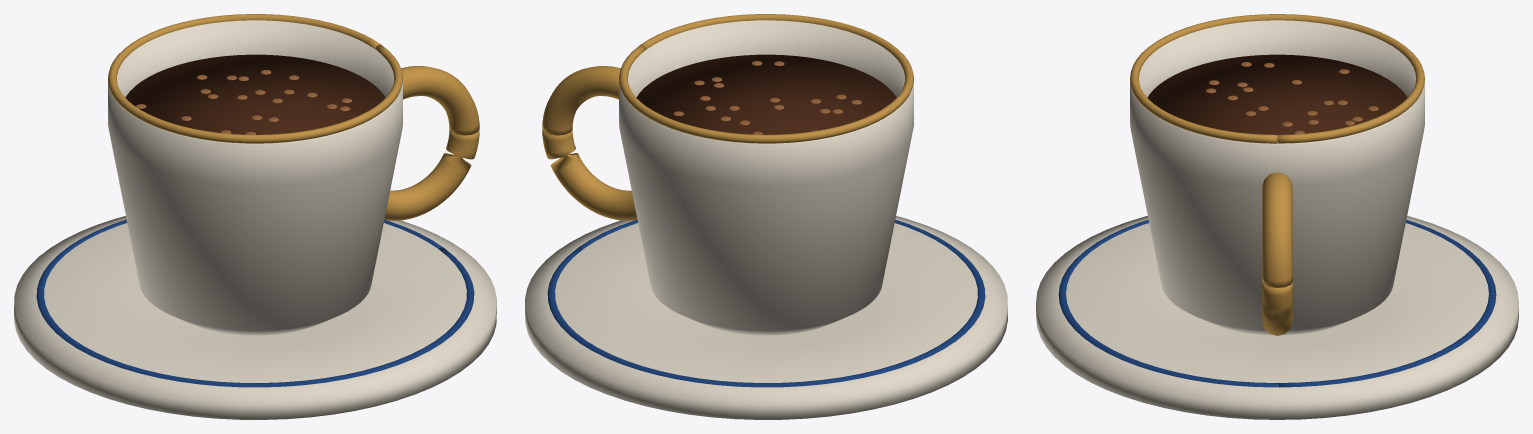
Rendered from turkish_coffee.glb.
The picture shows the model from 3 angles, left to right: view 1: azimuth 30°, elevation 25°; view 2: azimuth 150°, elevation 25°; view 3: azimuth 270°, elevation 25°; orthographic projection.
Visible parts, largest first — view 1: CoffeeCup, CoffeeSaucer, CoffeeFoam, CupHandle, CoffeeCupRim, CobaltSaucerRim; view 2: CoffeeCup, CoffeeSaucer, CoffeeFoam, CupHandle, CoffeeCupRim, CobaltSaucerRim; view 3: CoffeeCup, CoffeeSaucer, CoffeeFoam, CoffeeCupRim, CupHandle, CobaltSaucerRim.
Boxes of the visible parts, box(x1,y1,x2,y2) form: CoffeeCup: box(108, 20, 402, 335); CoffeeSaucer: box(14, 216, 496, 419); CoffeeFoam: box(125, 54, 385, 134); CupHandle: box(384, 66, 479, 220); CoffeeCupRim: box(108, 14, 402, 143); CobaltSaucerRim: box(36, 219, 474, 387); CoffeeCup: box(619, 20, 913, 335); CoffeeSaucer: box(525, 216, 1007, 419); CoffeeFoam: box(636, 54, 896, 134); CupHandle: box(542, 66, 637, 220); CoffeeCupRim: box(619, 14, 913, 143); CobaltSaucerRim: box(547, 219, 985, 387); CoffeeCup: box(1130, 20, 1424, 335); CoffeeSaucer: box(1036, 216, 1518, 419); CoffeeFoam: box(1147, 54, 1407, 134); CoffeeCupRim: box(1130, 14, 1424, 143); CupHandle: box(1262, 172, 1292, 335); CobaltSaucerRim: box(1058, 220, 1496, 387).
Size of the model in its own units: 0.1114 by 0.064 by 0.108.
